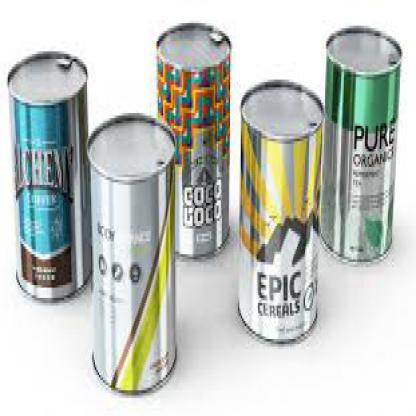METAL: (84, 113, 177, 393), (238, 80, 322, 342), (4, 49, 91, 300), (320, 23, 401, 262), (155, 20, 229, 256)
